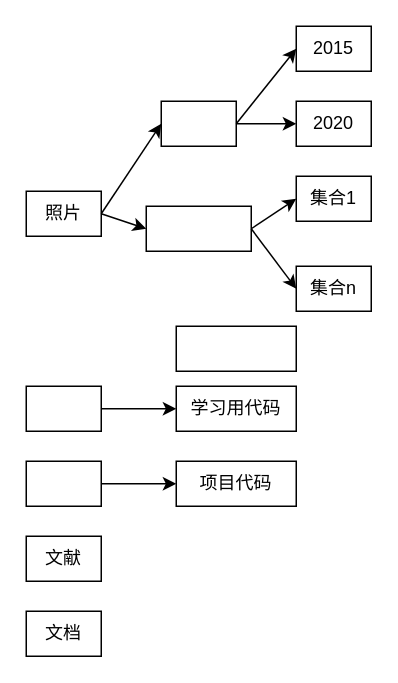
Image size: 398x683. Some labels were removed from this diagram. Each missing label, with the box of its shape:
实验代码: (175, 325, 296, 371)
日期: (160, 100, 236, 146)
特殊集合: (145, 205, 251, 251)
环境: (25, 385, 101, 431)
项目: (25, 460, 101, 506)
